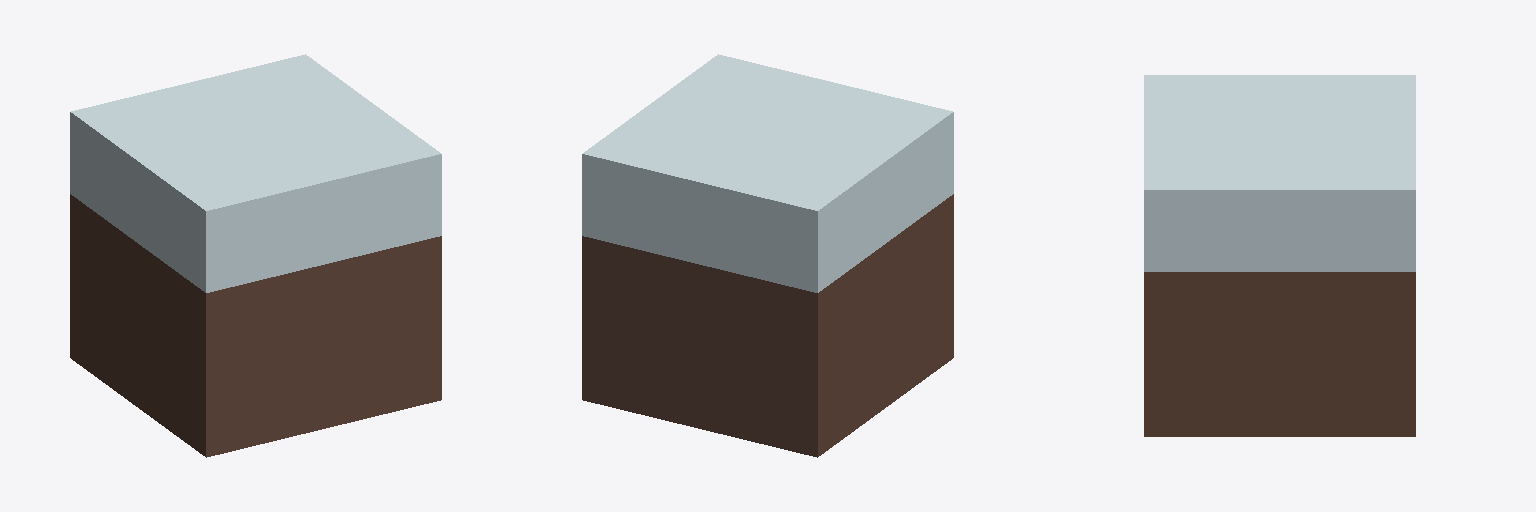
3 renders of one model, left to right at view 1: azimuth 30°, elevation 25°; view 2: azimuth 150°, elevation 25°; view 3: azimuth 270°, elevation 25°, orthographic.
Parts seen in each view (by area): view 1: object 1; view 2: object 1; view 3: object 1.
Boxes of the visible parts, <box> form: object 1: <box>70,54,441,457</box>; object 1: <box>582,54,953,457</box>; object 1: <box>1144,75,1415,436</box>.
Bounding box in the file's own units: 0.3 × 0.3 × 0.3.
Materials: 1 (1 with a texture image).